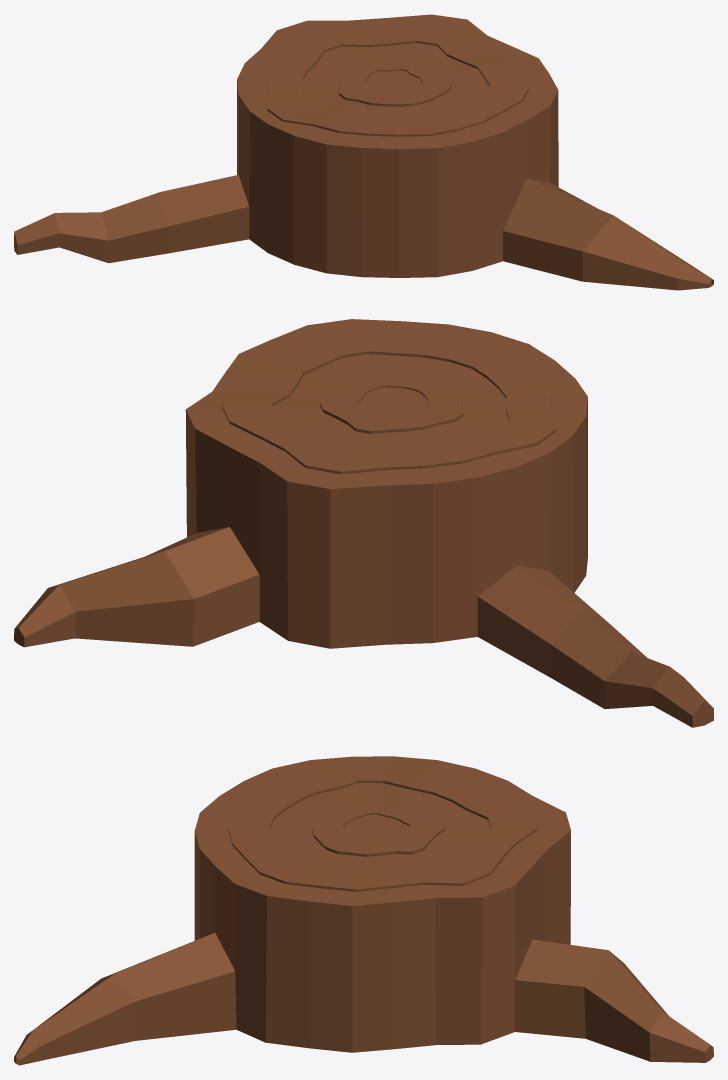
File: Trunk_v08.fbx
3 views of the same model, one above another, from view 1: azimuth 30°, elevation 25°; view 2: azimuth 150°, elevation 25°; view 3: azimuth 270°, elevation 25° (orthographic). The views are drawn at different scales.
Visible parts, largest first — view 1: Trunk_v08; view 2: Trunk_v08; view 3: Trunk_v08.
Boxes of the visible parts, x1,y1,x2,y2 form: Trunk_v08: (14, 14, 713, 290); Trunk_v08: (14, 319, 713, 727); Trunk_v08: (14, 756, 713, 1065).
Bounding box in the file's own units: 22.59 × 6.71 × 24.98.
1 material, 1 textured.
